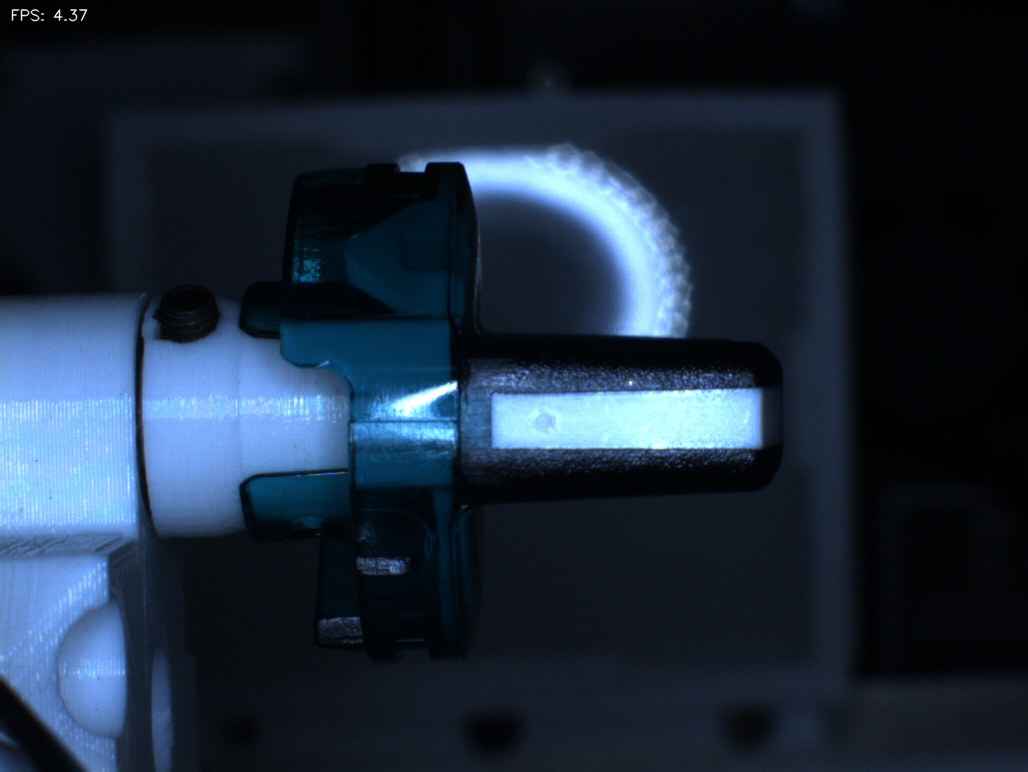DentOk: (314, 206, 392, 302)
